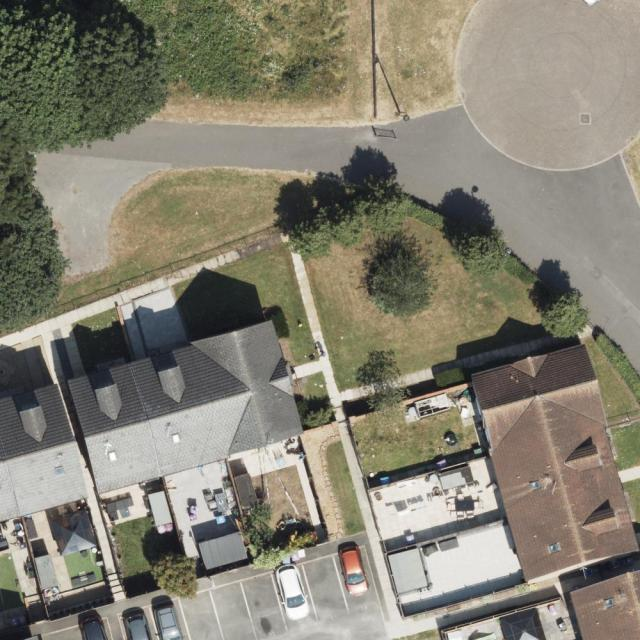roof: (67, 319, 306, 497), (466, 342, 640, 583), (0, 383, 90, 527), (569, 567, 640, 640)
skylight: (544, 538, 562, 556), (526, 477, 543, 493), (169, 430, 183, 445), (50, 464, 65, 477), (602, 596, 615, 611), (107, 450, 117, 462)
